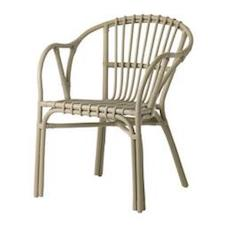chair: (17, 4, 196, 207)
